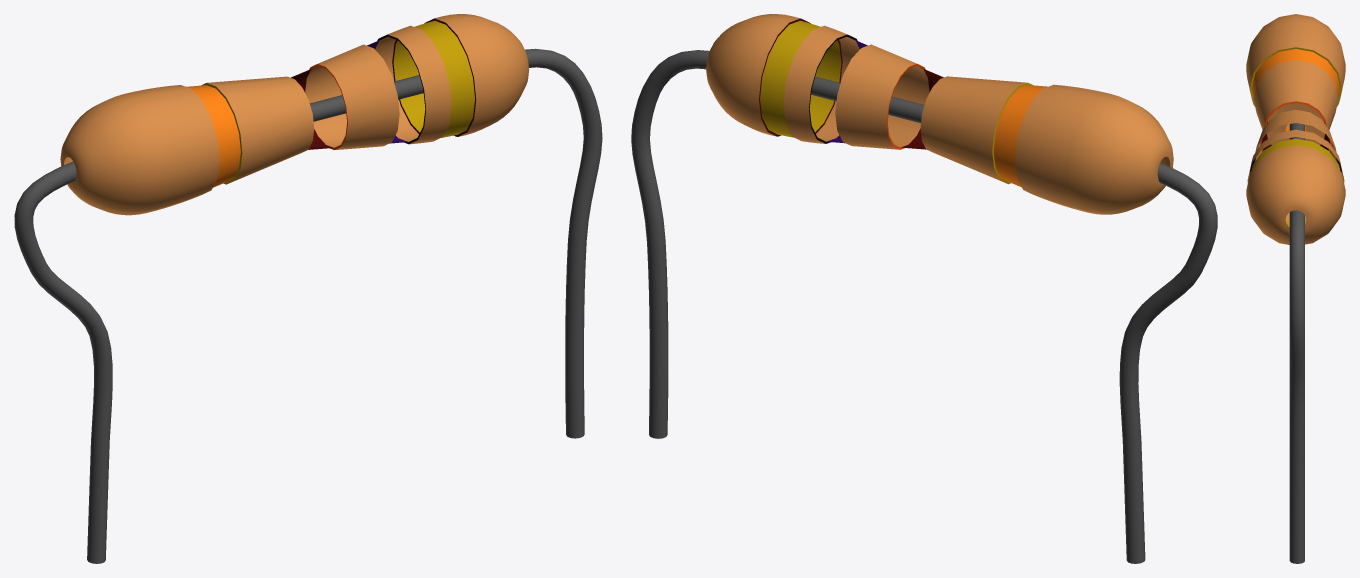
The model's file is resistor.FBX.
The picture shows the model from 3 angles, left to right: view 1: azimuth 30°, elevation 25°; view 2: azimuth 150°, elevation 25°; view 3: azimuth 270°, elevation 25°; orthographic projection. The views are drawn at different scales.
Parts seen in each view (by area): view 1: 470ohm006; view 2: 470ohm006; view 3: 470ohm006.
Boxes of the visible parts, <box> form: 470ohm006: <box>14,14,602,563</box>; 470ohm006: <box>631,14,1217,563</box>; 470ohm006: <box>1246,14,1345,563</box>.
Bounding box in the file's own units: 9 × 6.66 × 1.62.
